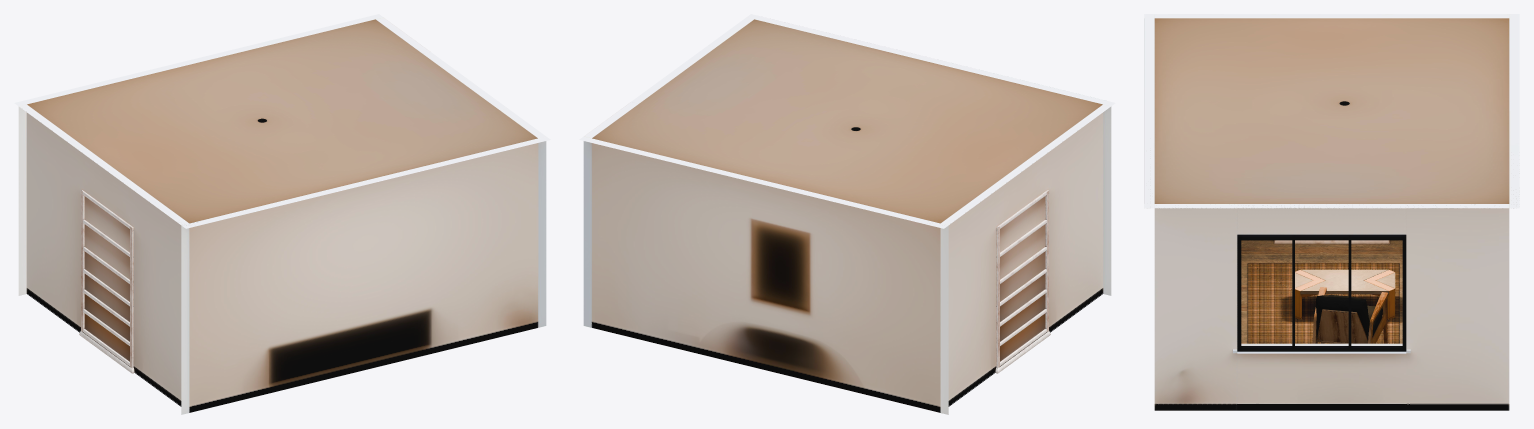
The model's file is living-room-02.glb.
3 renders of one model, left to right at view 1: azimuth 30°, elevation 25°; view 2: azimuth 150°, elevation 25°; view 3: azimuth 270°, elevation 25°, orthographic. The views are drawn at different scales.
Visible parts, largest first — view 1: wall_front, ceiling, wall_left, wall_back, wooden_bookshelf_worn_10, wall_right_d; view 2: wall_back, ceiling, wall_left, wall_front, wooden_bookshelf_worn_10, wall_right_d; view 3: ceiling, wall_right_b, wall_right_a, wall_right_c, rug_2, wall_right_d, floor, modern_arm_chair_01_3, modern_coffee_table_01_1, wall_back, wall_front, wall_left (+7 smaller).
Boxes of the visible parts, <box> form: wall_front: <box>181,136,550,414</box>; ceiling: <box>27,19,537,225</box>; wall_left: <box>19,104,188,406</box>; wall_back: <box>14,14,383,295</box>; wooden_bookshelf_worn_10: <box>79,190,134,373</box>; wall_right_d: <box>423,52,507,110</box>; wall_back: <box>579,136,948,414</box>; ceiling: <box>592,19,1102,223</box>; wall_left: <box>941,104,1110,406</box>; wall_front: <box>746,14,1115,295</box>; wooden_bookshelf_worn_10: <box>995,190,1050,373</box>; wall_right_d: <box>631,45,715,103</box>; ceiling: <box>1147,18,1519,208</box>; wall_right_b: <box>1406,204,1509,410</box>; wall_right_a: <box>1154,204,1237,410</box>; wall_right_c: <box>1237,351,1406,410</box>; rug_2: <box>1247,263,1399,343</box>; wall_right_d: <box>1237,204,1406,234</box>; floor: <box>1241,240,1402,343</box>; modern_arm_chair_01_3: <box>1312,287,1387,343</box>; modern_coffee_table_01_1: <box>1295,269,1395,319</box>; wall_back: <box>1509,14,1519,208</box>; wall_front: <box>1144,14,1154,208</box>; wall_left: <box>1154,14,1509,18</box>.
Size of the model in its own units: 5.44 by 2.7 by 4.44.
32 materials, 32 textured.
